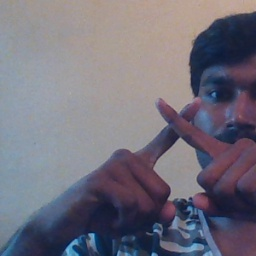X: (114, 85, 240, 207)
